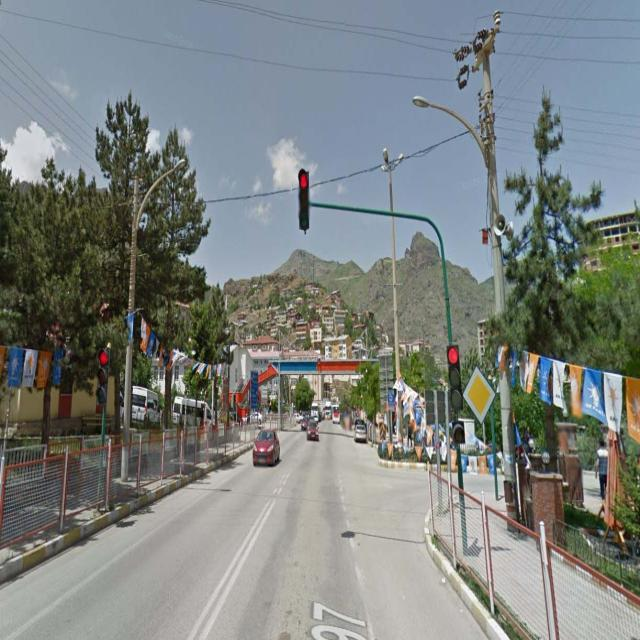kirmizi: (448, 346, 462, 410), (298, 170, 310, 228), (98, 347, 106, 400)
